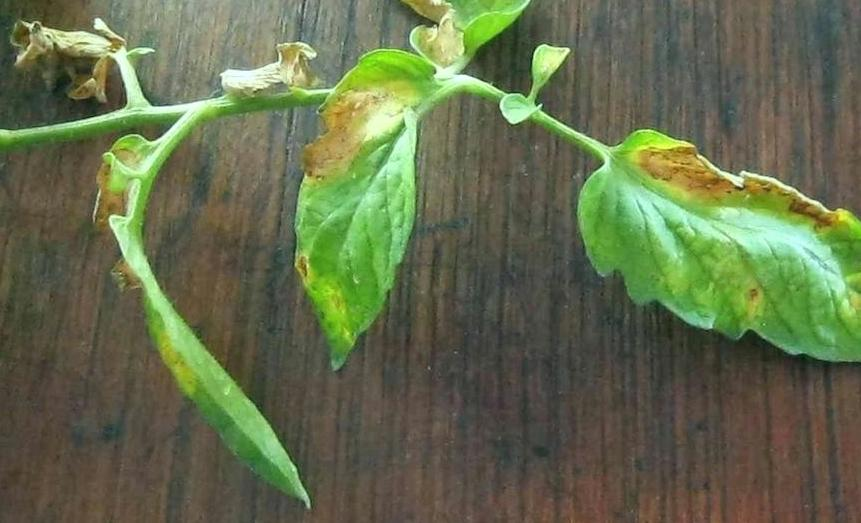Tomato Early blight leaf: (575, 131, 861, 385), (289, 35, 445, 384)
